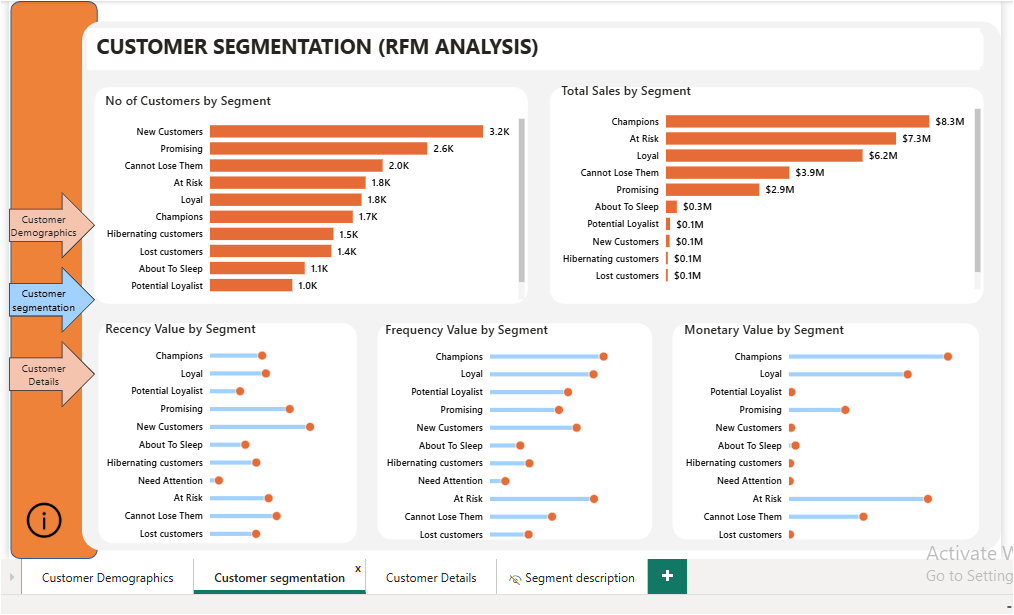

The page's visual inventory and layout, read from the dashboard file:
{"tool":"powerbi","page":{"name":"Customer segmentation","canvas":[1280,720],"ordinal":1},"visuals":[{"type":"clusteredBarChart","title":"No of Customers by Segment","fields":{"Y":["Count(FactInternetSales.CustomerKey)"],"Category":["Segment table.Segment"]},"box":[111.8,117.6,552.9,267.6],"z":0},{"type":"clusteredBarChart","title":"Total Sales by Segment","fields":{"Category":["Segment table.Segment"],"Y":["Sum(FactInternetSales.SalesAmount)"]},"box":[700,104.4,552.9,267.6],"z":1000},{"type":"barChart","title":"Recency Value by Segment","fields":{"Category":["Segment table.Segment"],"Y":["Sum(RFM Table.Recency value)"]},"box":[111.8,411.8,336.8,288.2],"z":2000},{"type":"barChart","title":"Monetary Value by Segment","fields":{"Category":["Segment table.Segment"],"Y":["Sum(RFM Table.Monetary value)"]},"box":[858.9,412.4,394,287.7],"z":2001},{"type":"barChart","title":"Frequency Value by Segment","fields":{"Category":["Segment table.Segment"],"Y":["Sum(RFM Table.Frequency value)"]},"box":[473.4,412.4,354.3,287.7],"z":2002},{"type":"textbox","box":[100.6,35.4,1152.3,53.9],"z":2003},{"type":"pageNavigator","box":[0,246.6,112,280.6],"z":2004},{"type":"image","box":[9.9,640.6,70.9,59.5],"z":2005}]}

Visuals, with their boxes on the page's 1280x720 design canvas (x1, y1, x2, y2). These are canvas units, not pixel positions in the 1014x615 screenshot, which may show the page scaled, cropped or inside an application window:
"No of Customers by Segment" clusteredBarChart: rect(112, 118, 665, 385)
"Total Sales by Segment" clusteredBarChart: rect(700, 104, 1253, 372)
"Recency Value by Segment" barChart: rect(112, 412, 449, 700)
"Monetary Value by Segment" barChart: rect(859, 412, 1253, 700)
"Frequency Value by Segment" barChart: rect(473, 412, 828, 700)
textbox: rect(101, 35, 1253, 89)
pageNavigator: rect(0, 247, 112, 527)
image: rect(10, 641, 81, 700)
